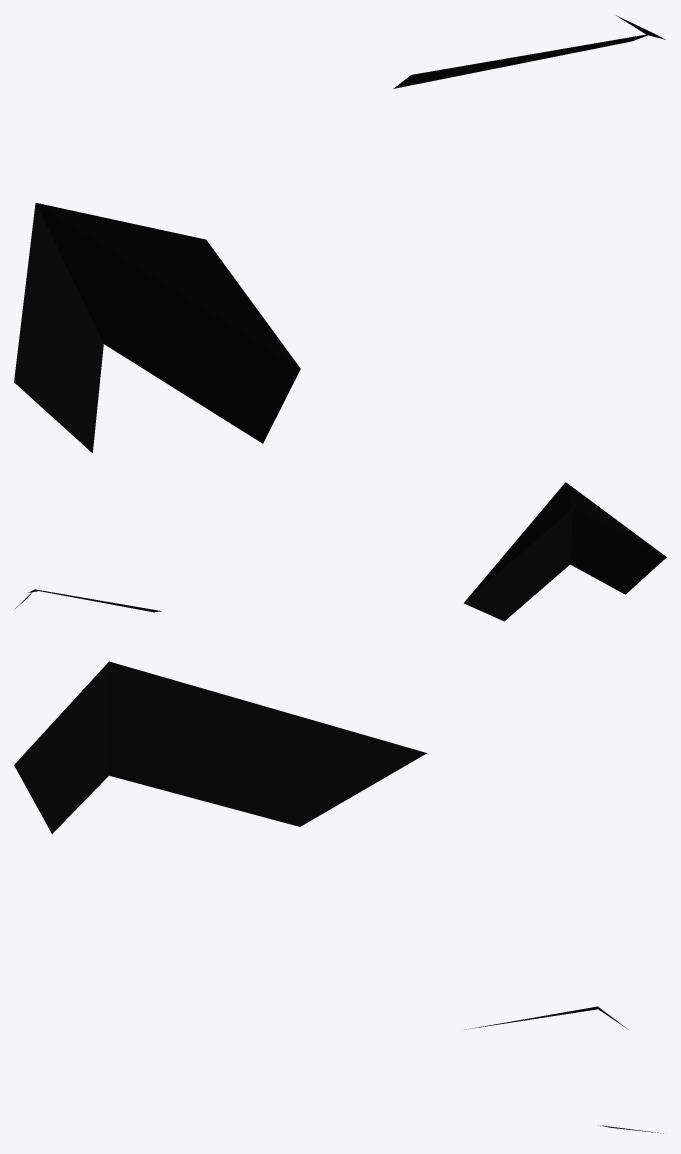
3 views of the same model, one above another, from view 1: azimuth 30°, elevation 25°; view 2: azimuth 150°, elevation 25°; view 3: azimuth 270°, elevation 25° (orthographic). The views are drawn at different scales.
Bounding box in the file's own units: 0.1658 × 0.0316 × 0.1151.
Materials: 1 (1 with a texture image).
